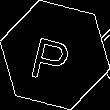P_N: (31, 26, 79, 84)
